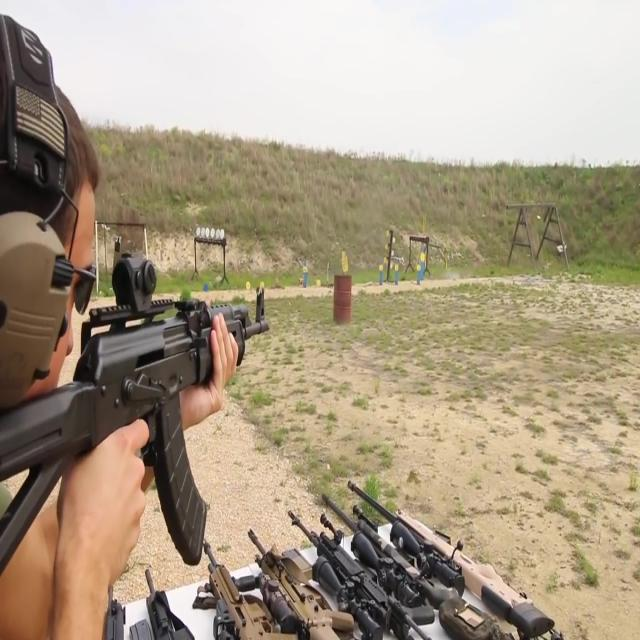Weapon: (0, 232, 292, 557), (78, 457, 572, 640)
